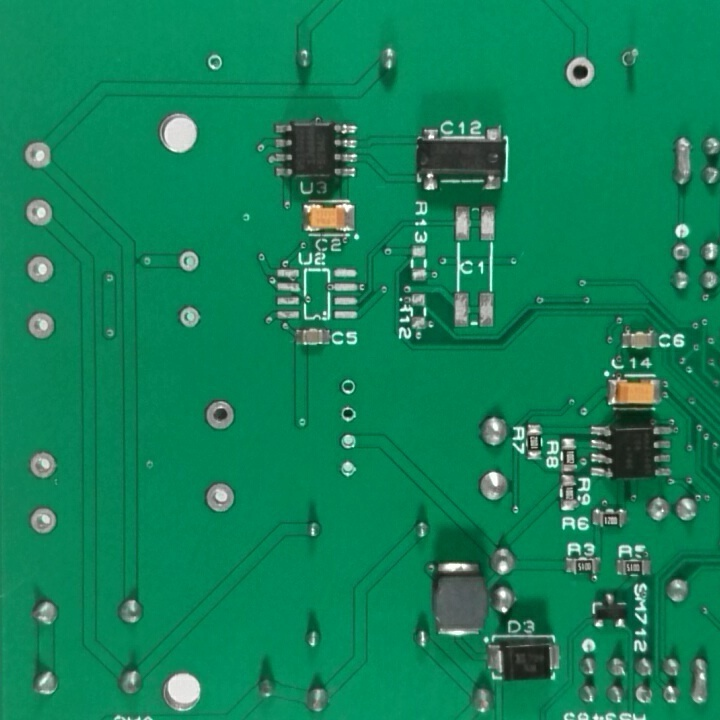F: (562, 52, 601, 92), (17, 195, 59, 232), (201, 479, 239, 519), (201, 395, 239, 435), (21, 306, 59, 344), (20, 250, 58, 285), (25, 447, 61, 480), (27, 503, 60, 538), (21, 139, 55, 172), (174, 247, 204, 278), (616, 42, 643, 72), (176, 303, 202, 332), (202, 52, 229, 77), (633, 683, 655, 709), (336, 377, 359, 401), (336, 432, 361, 454), (335, 404, 359, 426), (670, 241, 692, 263), (336, 459, 359, 480)
P: (667, 131, 696, 194), (688, 653, 713, 709)
